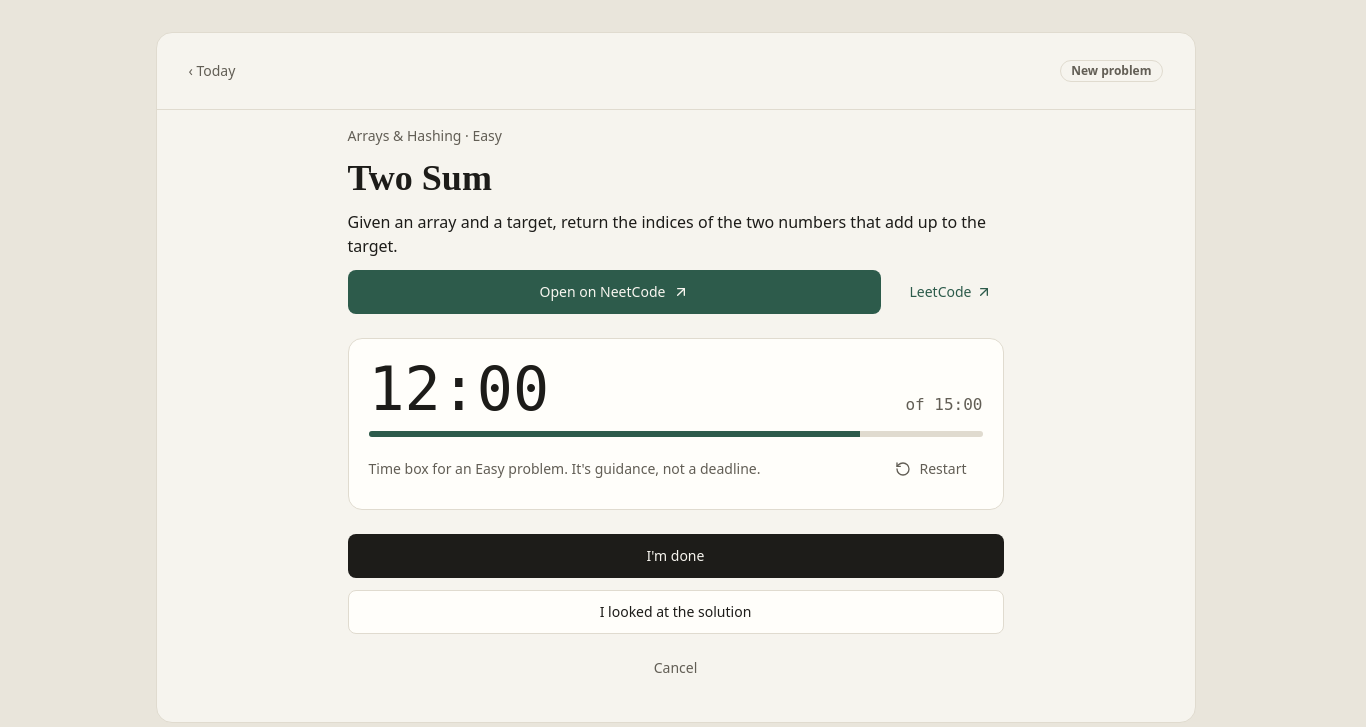
Test: SolvingPage › restarts the timer from 00:00 once the user confirms
Click the button "Restart".
click(931, 469)  # box [879,449,982,489]
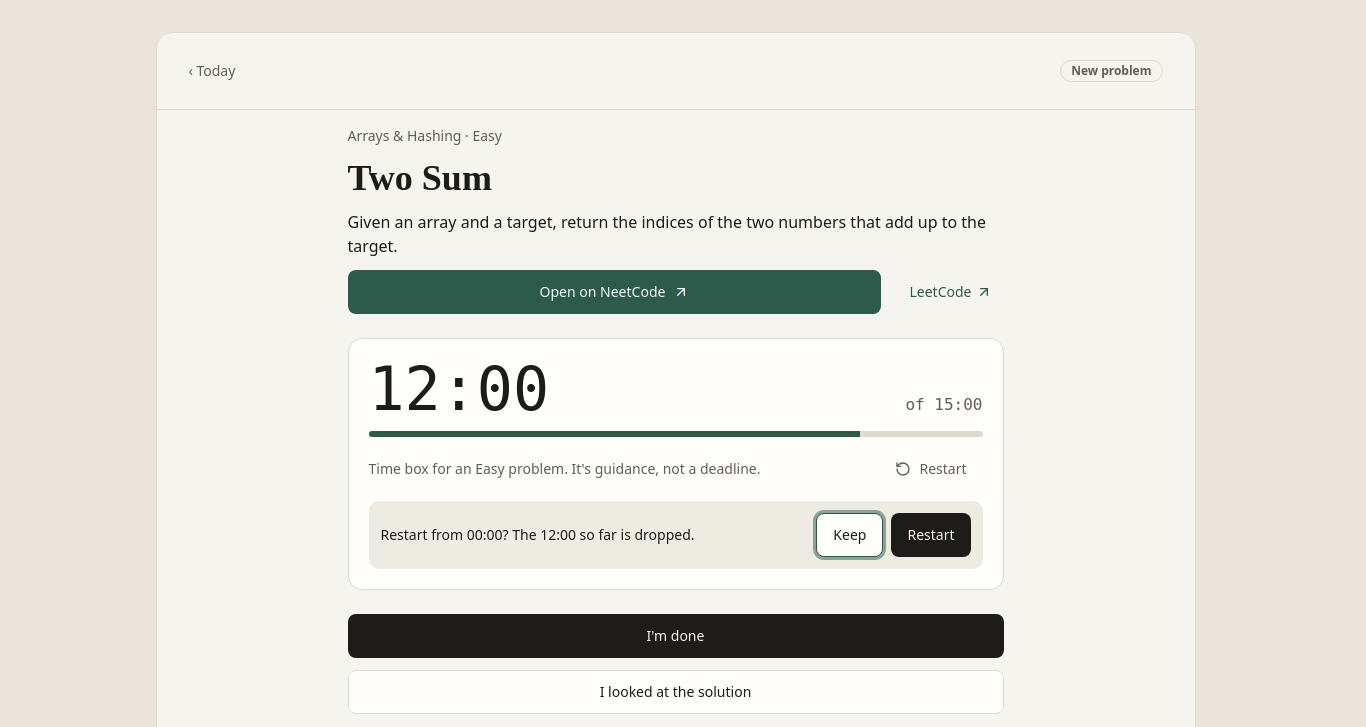
Click the button "Restart" in the row of "The 12:00 so far is dropped.".
click(931, 535)  # box [891,513,970,557]
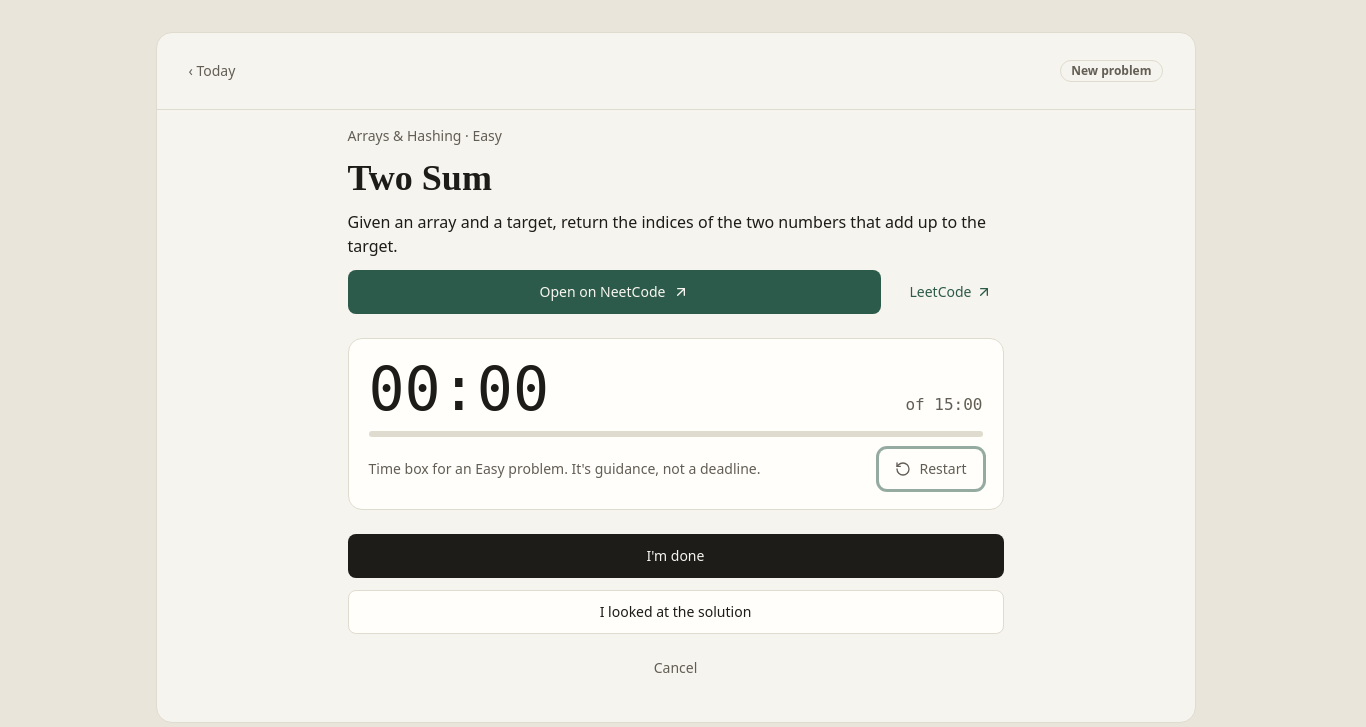
expect the text "00:00" is shown: met, box [368,359,549,419]
expect the text "Restart from 00:00?" is gone: met
